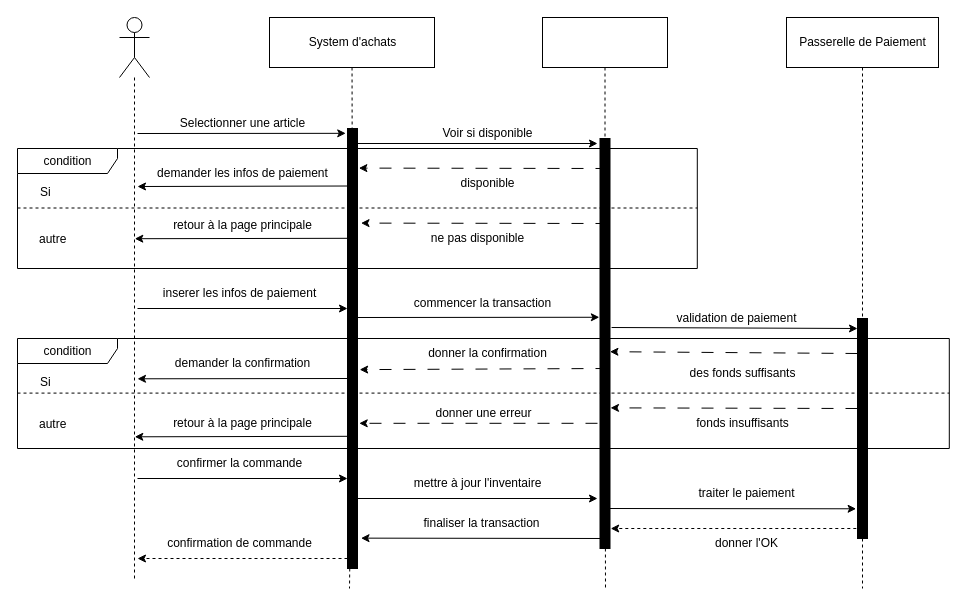
This 967x607 diagram has some shape labels left out. The shapes that lost their labels are listed below. From the top down, each one's centre as x and y in pixels, then its label:
At point (134, 47): "Observateur".
At point (605, 42): "System d'inventaire".
